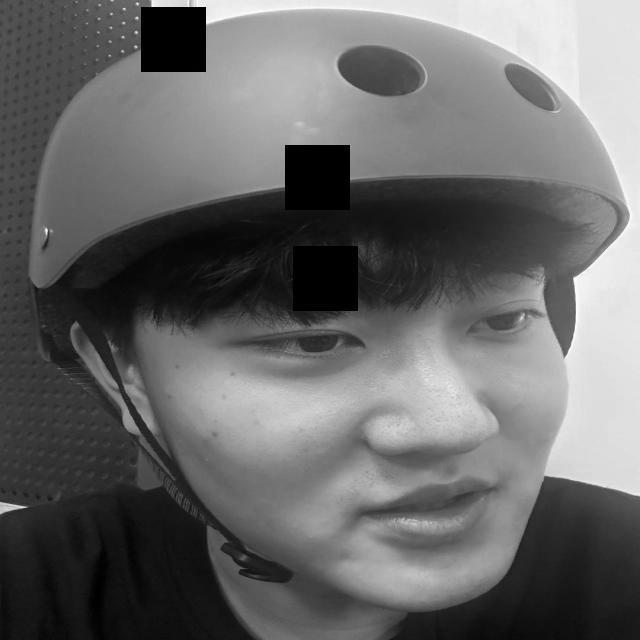helmet: (26, 5, 630, 416)
